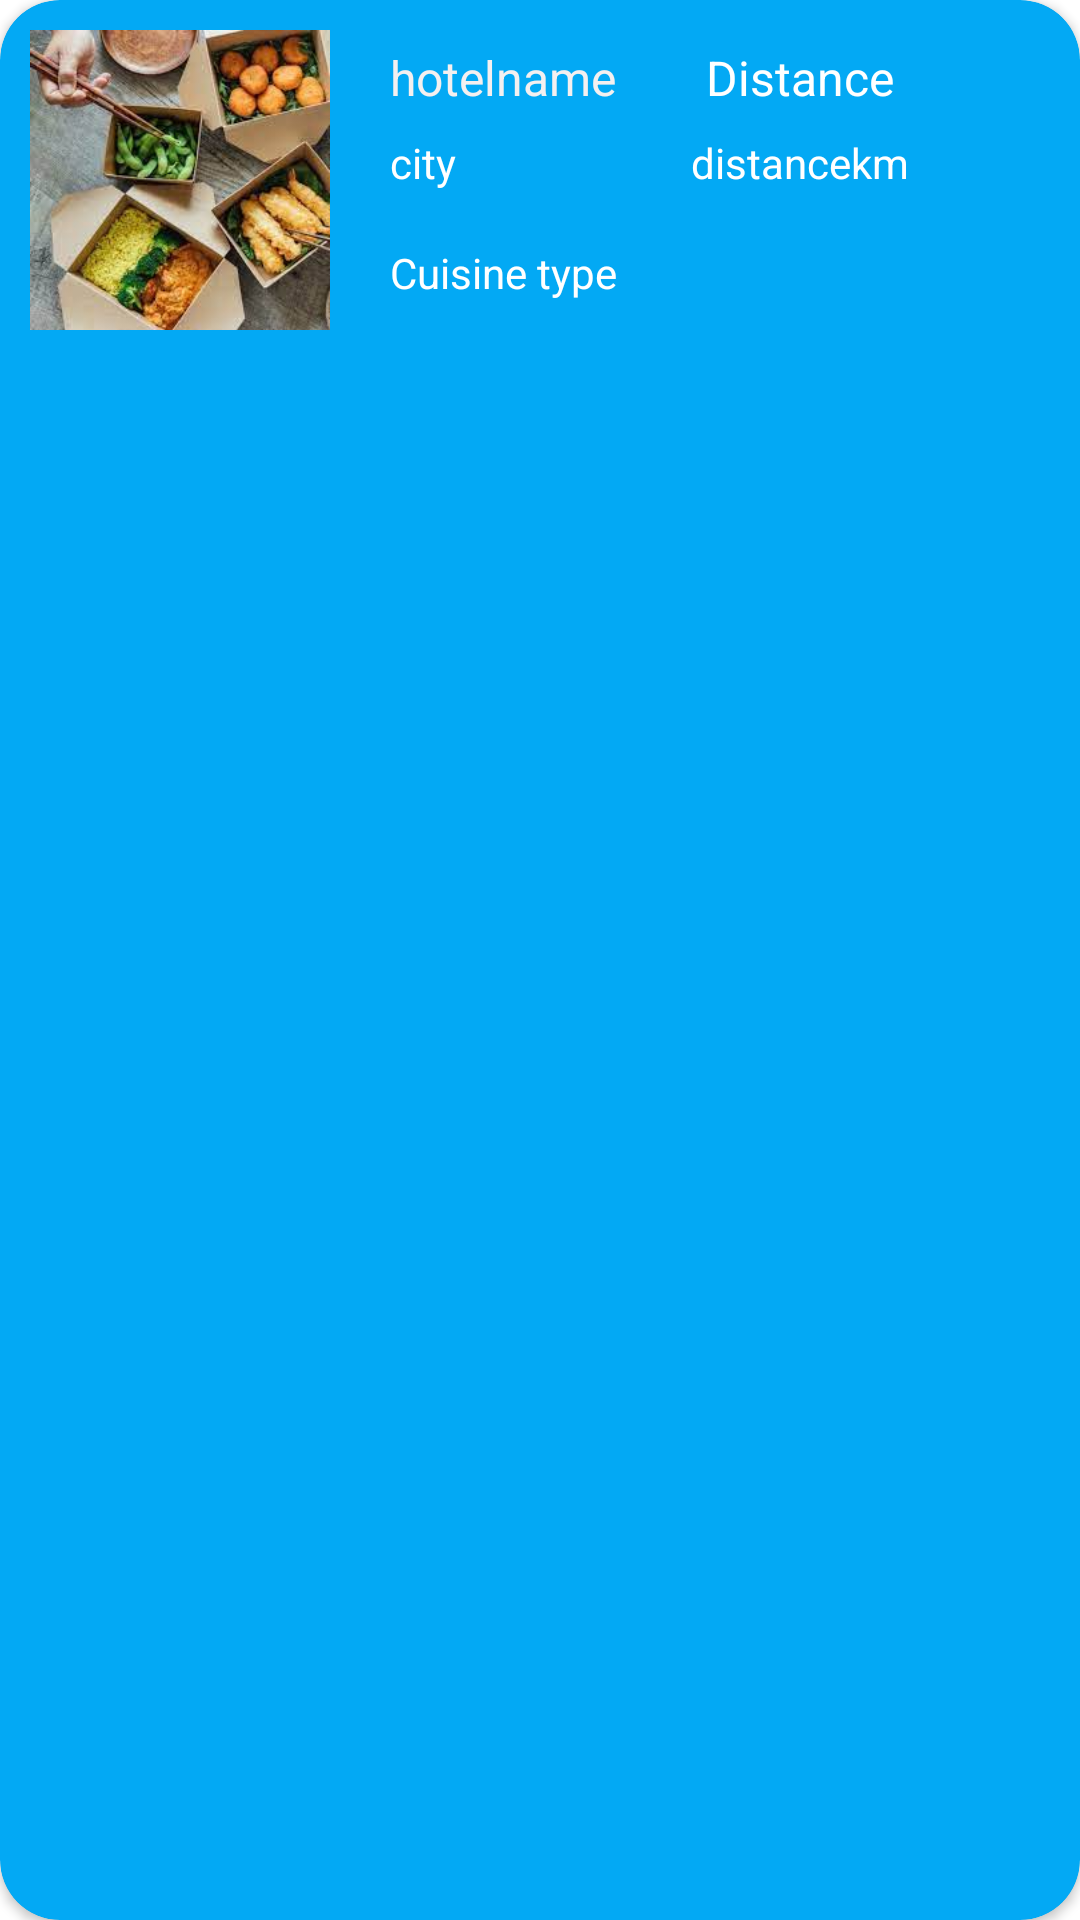

Icon bounding boxes for this 1080 x 1920 phone screenshot, format region(x1, y1, x2, y2):
takeout meal: region(30, 30, 330, 330)
